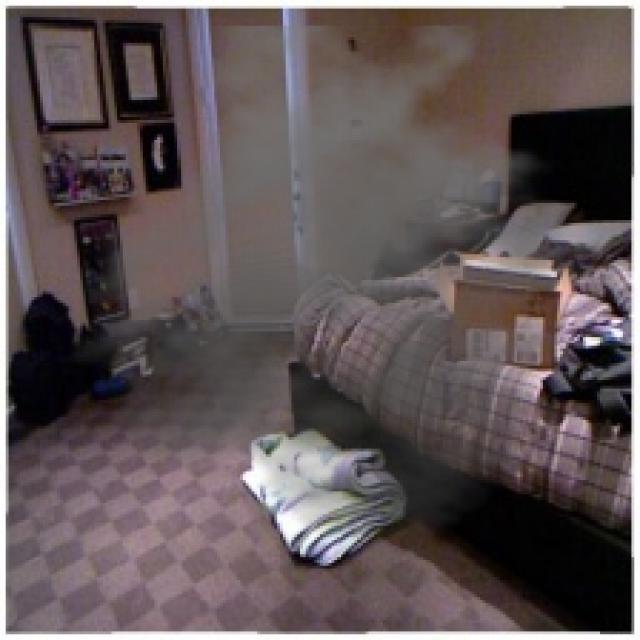Smoke: (68, 26, 634, 540)
